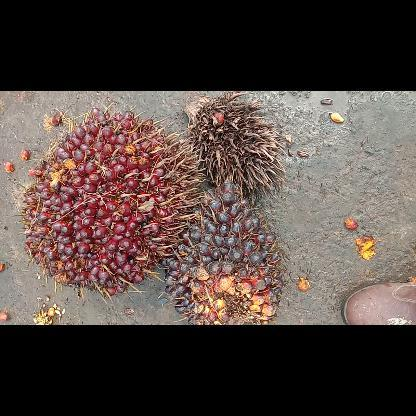Janjang kosong: (182, 90, 286, 196)
TBS masak: (13, 101, 206, 301)
TBS mentah: (161, 180, 283, 324)
